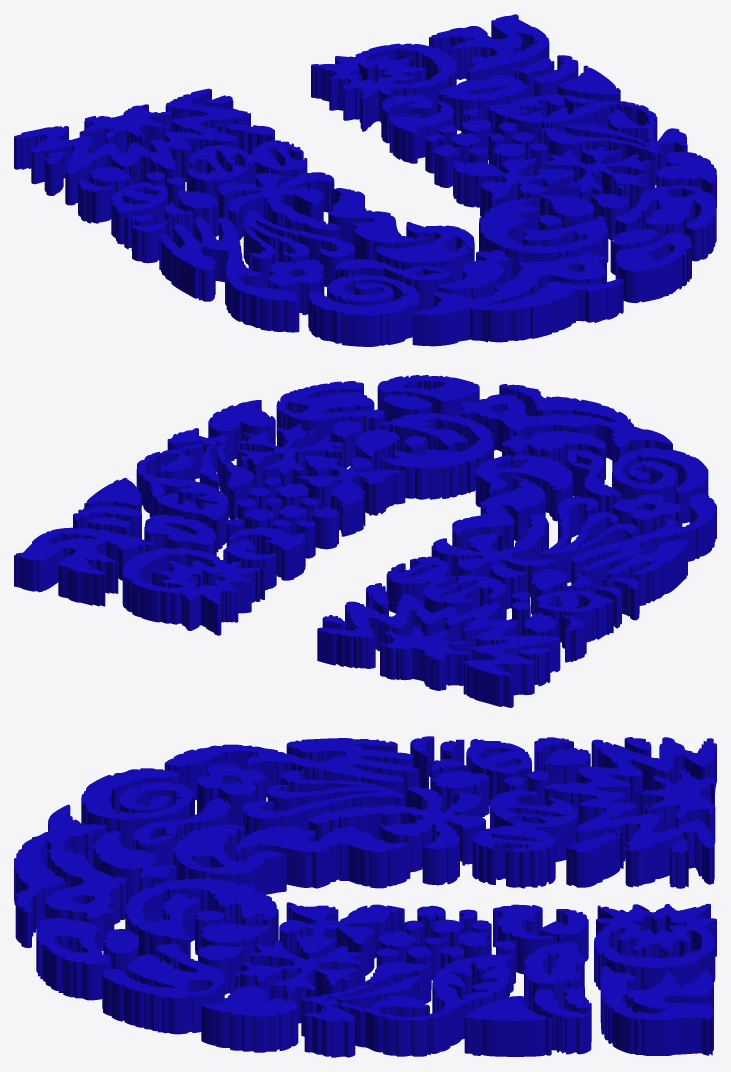
Rendered from unilever.glb.
3 renders of one model, top to bottom at view 1: azimuth 30°, elevation 25°; view 2: azimuth 150°, elevation 25°; view 3: azimuth 270°, elevation 25°, orthographic. The views are drawn at different scales.
Visible parts, largest first — view 1: imagetostl_mesh4, imagetostl_mesh6, imagetostl_mesh2, imagetostl_mesh0, imagetostl_mesh3, imagetostl_mesh5, imagetostl_mesh20, imagetostl_mesh1, imagetostl_mesh7, imagetostl_mesh18, imagetostl_mesh9, imagetostl_mesh10 (+56 smaller); view 2: imagetostl_mesh2, imagetostl_mesh0, imagetostl_mesh3, imagetostl_mesh12, imagetostl_mesh5, imagetostl_mesh6, imagetostl_mesh8, imagetostl_mesh24, imagetostl_mesh4, imagetostl_mesh1, imagetostl_mesh7, imagetostl_mesh10 (+53 smaller); view 3: imagetostl_mesh2, imagetostl_mesh3, imagetostl_mesh10, imagetostl_mesh5, imagetostl_mesh18, imagetostl_mesh14, imagetostl_mesh12, imagetostl_mesh26, imagetostl_mesh16, imagetostl_mesh0, imagetostl_mesh4, imagetostl_mesh6 (+60 smaller).
Part boxes in pixels (left/top/right/bottom): imagetostl_mesh4: left=412, top=254, right=623, bottom=346; imagetostl_mesh6: left=159, top=221, right=299, bottom=332; imagetostl_mesh2: left=14, top=90, right=250, bottom=205; imagetostl_mesh0: left=311, top=44, right=456, bottom=131; imagetostl_mesh3: left=14, top=88, right=250, bottom=173; imagetostl_mesh5: left=413, top=252, right=623, bottom=314; imagetostl_mesh20: left=308, top=277, right=419, bottom=346; imagetostl_mesh1: left=311, top=43, right=456, bottom=100; imagetostl_mesh7: left=159, top=216, right=298, bottom=300; imagetostl_mesh18: left=217, top=173, right=339, bottom=240; imagetostl_mesh9: left=479, top=198, right=608, bottom=252; imagetostl_mesh10: left=484, top=97, right=657, bottom=143; imagetostl_mesh2: left=317, top=599, right=560, bottom=707; imagetostl_mesh0: left=122, top=548, right=264, bottom=635; imagetostl_mesh3: left=318, top=594, right=559, bottom=676; imagetostl_mesh12: left=14, top=528, right=155, bottom=606; imagetostl_mesh5: left=461, top=384, right=672, bottom=447; imagetostl_mesh6: left=571, top=492, right=716, bottom=605; imagetostl_mesh8: left=381, top=413, right=493, bottom=499; imagetostl_mesh24: left=297, top=458, right=405, bottom=536; imagetostl_mesh4: left=461, top=384, right=672, bottom=470; imagetostl_mesh1: left=122, top=547, right=264, bottom=604; imagetostl_mesh7: left=571, top=492, right=716, bottom=574; imagetostl_mesh10: left=136, top=445, right=228, bottom=552; imagetostl_mesh2: left=544, top=740, right=716, bottom=887; imagetostl_mesh3: left=544, top=737, right=716, bottom=851; imagetostl_mesh10: left=339, top=954, right=513, bottom=1056; imagetostl_mesh5: left=14, top=804, right=128, bottom=917; imagetostl_mesh18: left=308, top=788, right=485, bottom=885; imagetostl_mesh14: left=472, top=794, right=577, bottom=888; imagetostl_mesh12: left=600, top=967, right=713, bottom=1055; imagetostl_mesh26: left=236, top=833, right=410, bottom=888; imagetostl_mesh16: left=102, top=944, right=224, bottom=1034; imagetostl_mesh0: left=594, top=905, right=716, bottom=989; imagetostl_mesh4: left=14, top=813, right=128, bottom=950; imagetostl_mesh6: left=164, top=740, right=419, bottom=806.
Bounding box in the file's own units: 33.89 × 2 × 35.28.
